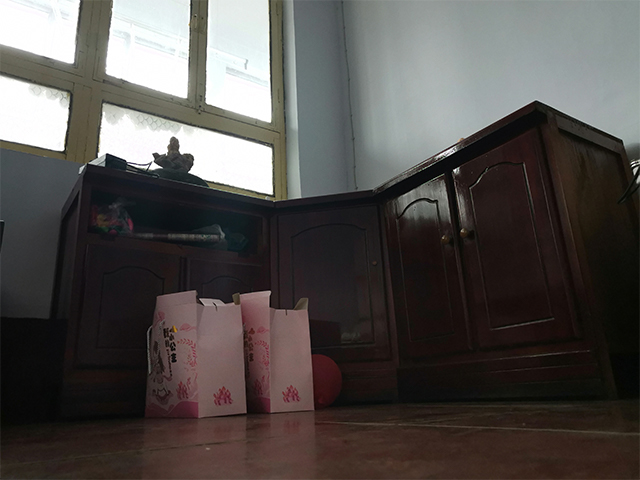cabinet: (44, 96, 640, 424)
